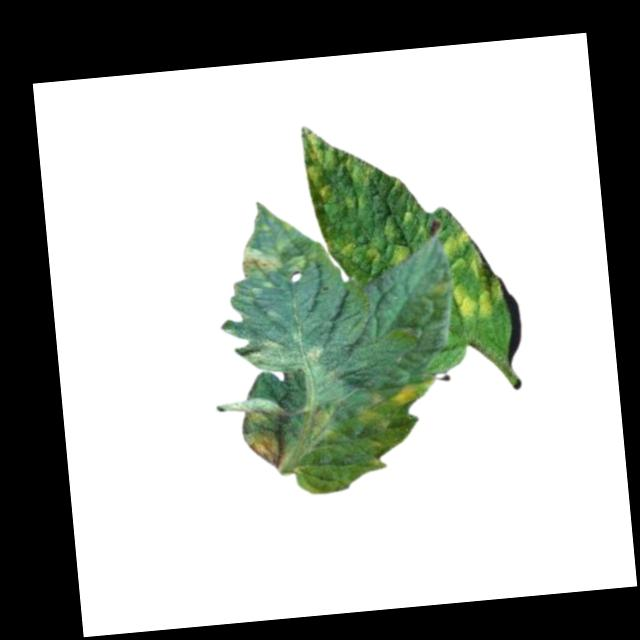Leaf_Mold: (298, 118, 381, 215), (442, 226, 509, 321), (233, 329, 325, 377), (245, 422, 292, 470), (240, 237, 287, 279), (387, 373, 440, 409), (382, 234, 414, 267)
